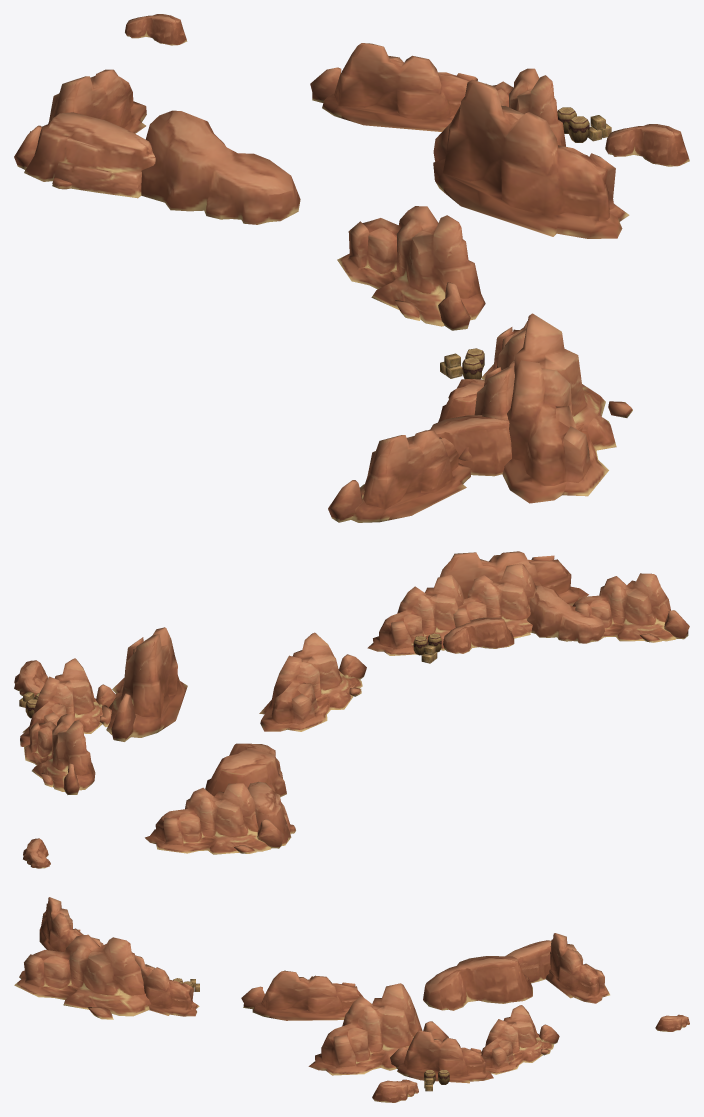
File: rock_red09_y.FBX
3 renders of one model, top to bottom at view 1: azimuth 30°, elevation 25°; view 2: azimuth 150°, elevation 25°; view 3: azimuth 270°, elevation 25°, orthographic. The views are drawn at different scales.
Parts seen in each view (by area): view 1: rock_red09_y; view 2: rock_red09_y; view 3: rock_red09_y.
Part boxes in pixels (x1,y1,x2,y2): rock_red09_y: [14, 14, 689, 522]; rock_red09_y: [14, 551, 689, 868]; rock_red09_y: [14, 897, 689, 1102].
Size of the model in its own units: 53.85 by 9.18 by 85.78.
Materials: 1 (1 with a texture image).
